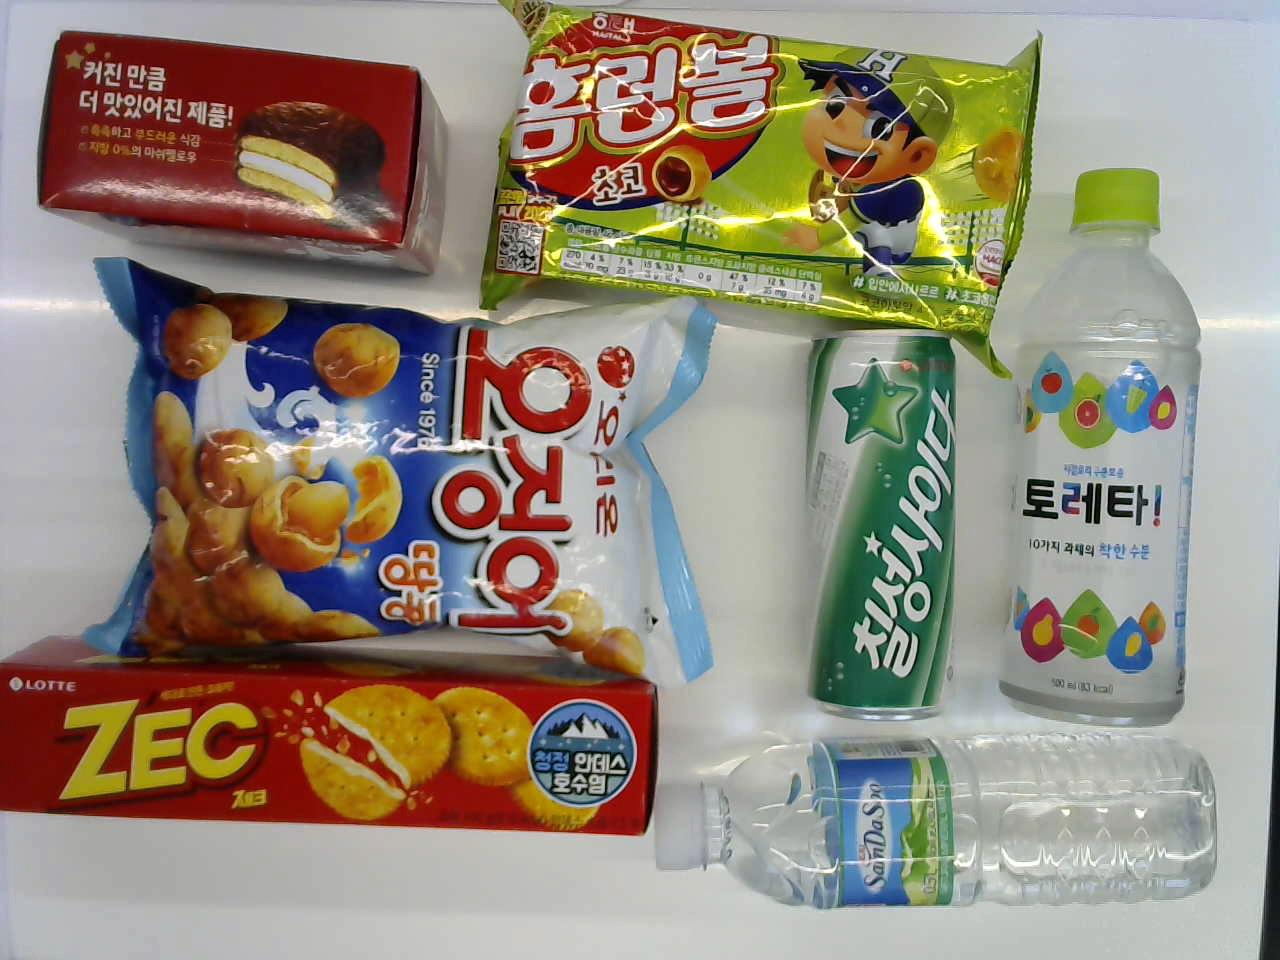chocopie: (35, 24, 450, 279)
cidar: (792, 327, 961, 730)
homerunball: (499, 0, 1029, 361)
samdasu: (653, 728, 1221, 921)
squid_peanut: (88, 288, 685, 655)
toreta: (994, 171, 1202, 707)
zec: (0, 649, 662, 836)
